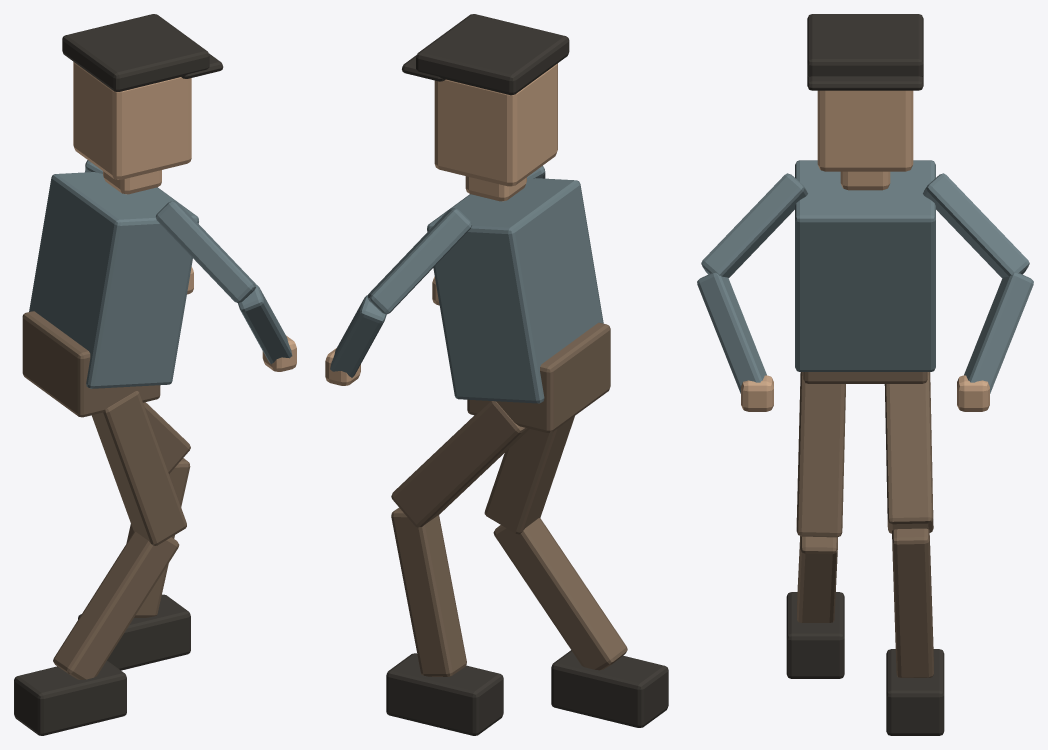
The model's file is supply-pusher.glb.
3 views of the same model, side by side, from view 1: azimuth 30°, elevation 25°; view 2: azimuth 150°, elevation 25°; view 3: azimuth 270°, elevation 25° (orthographic). The views are drawn at different scales.
Visible parts, largest first — view 1: pusher-torso, pusher-head, pusher-thigh-1, pusher-cap, pusher-shin-1, pusher-foot-1, pusher-pelvis, pusher-foot-0, pusher-upper-arm-1, pusher-forearm-1, pusher-thigh-0, pusher-shin-0 (+2 smaller); view 2: pusher-torso, pusher-head, pusher-cap, pusher-shin-1, pusher-shin-0, pusher-thigh-0, pusher-foot-0, pusher-foot-1, pusher-pelvis, pusher-thigh-1, pusher-upper-arm-0, pusher-forearm-0 (+1 smaller); view 3: pusher-torso, pusher-head, pusher-cap, pusher-thigh-1, pusher-thigh-0, pusher-shin-0, pusher-foot-0, pusher-foot-1, pusher-upper-arm-0, pusher-upper-arm-1, pusher-forearm-0, pusher-forearm-1 (+6 smaller).
Part boxes in pixels (left/top/right/bottom): pusher-torso: left=29, top=172, right=198, bottom=388; pusher-head: left=73, top=62, right=191, bottom=179; pusher-thigh-1: left=91, top=391, right=186, bottom=545; pusher-cap: left=62, top=14, right=209, bottom=91; pusher-shin-1: left=53, top=531, right=179, bottom=679; pusher-foot-1: left=14, top=660, right=126, bottom=735; pusher-pelvis: left=22, top=311, right=160, bottom=417; pusher-foot-0: left=78, top=594, right=190, bottom=670; pusher-upper-arm-1: left=155, top=201, right=256, bottom=303; pusher-forearm-1: left=238, top=284, right=292, bottom=364; pusher-thigh-0: left=143, top=402, right=190, bottom=473; pusher-shin-0: left=126, top=458, right=190, bottom=617; pusher-torso: left=427, top=178, right=603, bottom=403; pusher-head: left=434, top=63, right=557, bottom=186; pusher-cap: left=416, top=14, right=569, bottom=95; pusher-shin-1: left=493, top=518, right=627, bottom=670; pusher-shin-0: left=391, top=508, right=466, bottom=676; pusher-thigh-0: left=391, top=401, right=529, bottom=527; pusher-foot-0: left=386, top=653, right=503, bottom=735; pusher-foot-1: left=551, top=650, right=668, bottom=727; pusher-pelvis: left=467, top=322, right=610, bottom=432; pusher-thigh-1: left=484, top=416, right=574, bottom=534; pusher-upper-arm-0: left=367, top=208, right=471, bottom=314; pusher-forearm-0: left=330, top=295, right=386, bottom=377; pusher-torso: left=795, top=160, right=935, bottom=371; pusher-head: left=817, top=90, right=913, bottom=171; pusher-cap: left=807, top=14, right=923, bottom=76; pusher-thigh-1: left=796, top=372, right=845, bottom=537; pusher-thigh-0: left=884, top=372, right=933, bottom=533; pusher-shin-0: left=892, top=528, right=933, bottom=677; pusher-foot-0: left=886, top=649, right=944, bottom=735; pusher-foot-1: left=786, top=592, right=844, bottom=678; pusher-upper-arm-0: left=923, top=173, right=1029, bottom=277; pusher-upper-arm-1: left=701, top=173, right=807, bottom=277; pusher-forearm-0: left=964, top=272, right=1033, bottom=393; pusher-forearm-1: left=697, top=272, right=766, bottom=393.
Bounding box in the file's own units: 0.695 × 1.77 × 0.8112.
